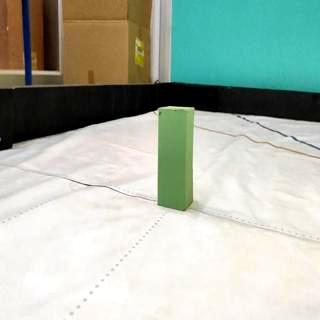greenbox: (156, 106, 194, 212)
